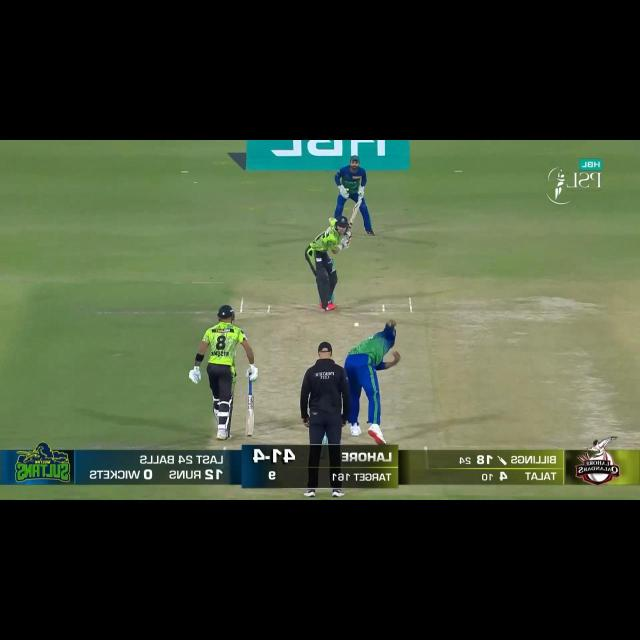bat: (241, 397, 257, 439), (348, 200, 362, 231)
toe: (243, 431, 255, 438), (354, 200, 361, 210)
